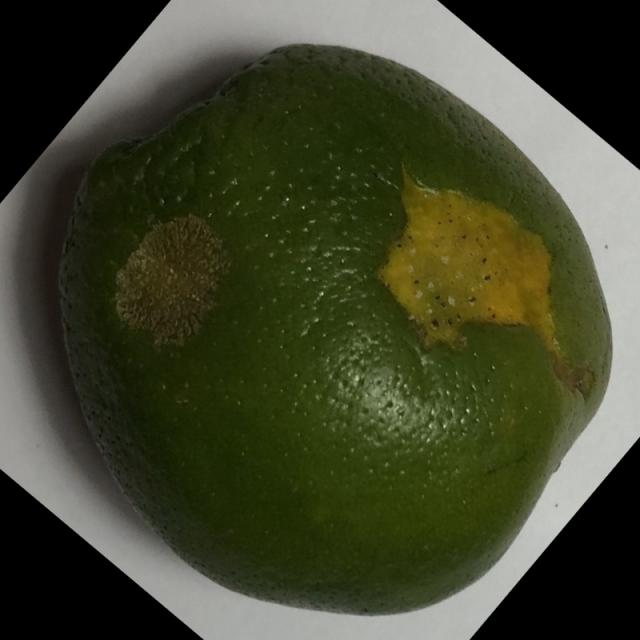canker: (30, 26, 629, 630)
